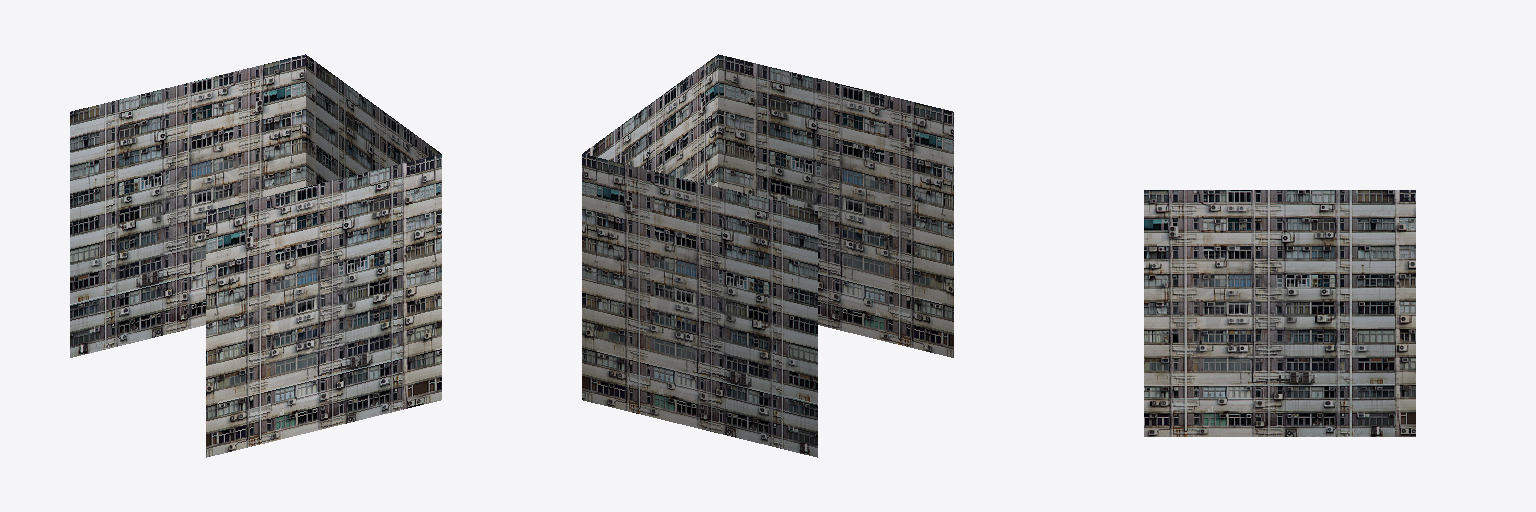
3 renders of one model, left to right at view 1: azimuth 30°, elevation 25°; view 2: azimuth 150°, elevation 25°; view 3: azimuth 270°, elevation 25°, orthographic.
Parts seen in each view (by area): view 1: Cube; view 2: Cube; view 3: Cube.
Boxes of the visible parts, x1=… form: Cube: x1=70, y1=54, x2=441, y2=457; Cube: x1=582, y1=54, x2=953, y2=457; Cube: x1=1144, y1=190, x2=1415, y2=436.
Size of the model in its own units: 2 by 2 by 2.
Materials: 1 (1 with a texture image).